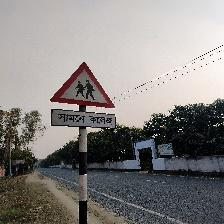College-in-front: (47, 53, 125, 134)
